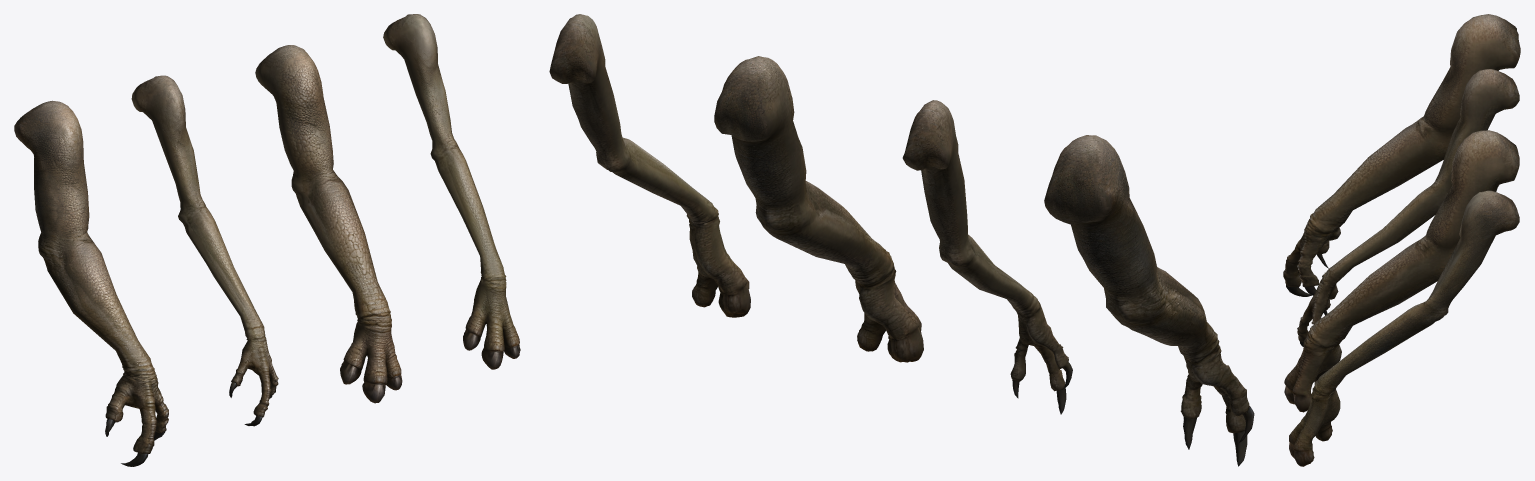
File: arm.glb
The picture shows the model from 3 angles, left to right: view 1: azimuth 30°, elevation 25°; view 2: azimuth 150°, elevation 25°; view 3: azimuth 270°, elevation 25°; orthographic projection. The views are drawn at different scales.
Visible parts, largest first — view 1: tripo_node_aa2a02b0-553c-4dc6-a446-b1b394da3bcb; view 2: tripo_node_aa2a02b0-553c-4dc6-a446-b1b394da3bcb; view 3: tripo_node_aa2a02b0-553c-4dc6-a446-b1b394da3bcb.
Part boxes in pixels (x1=…): tripo_node_aa2a02b0-553c-4dc6-a446-b1b394da3bcb: x1=14, y1=14, x2=520, y2=466; tripo_node_aa2a02b0-553c-4dc6-a446-b1b394da3bcb: x1=549, y1=14, x2=1254, y2=466; tripo_node_aa2a02b0-553c-4dc6-a446-b1b394da3bcb: x1=1283, y1=14, x2=1520, y2=466.
Size of the model in its own units: 0.998 by 0.6816 by 0.5059.
1 material, 1 textured.
